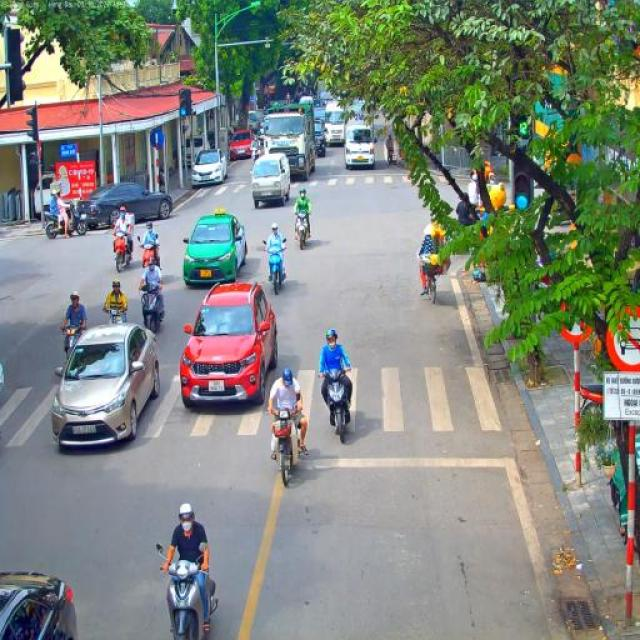car: (51, 322, 160, 452), (180, 279, 280, 409), (0, 571, 80, 640), (182, 208, 248, 287), (73, 182, 174, 229), (250, 152, 291, 208), (191, 148, 229, 186), (344, 125, 376, 170), (228, 130, 252, 160), (314, 119, 326, 158), (314, 100, 328, 120)
motorcycle: (156, 542, 219, 640), (268, 406, 304, 489), (317, 367, 352, 443), (44, 201, 88, 240), (262, 239, 288, 295), (574, 383, 604, 427), (139, 286, 165, 334), (60, 323, 85, 362), (138, 233, 161, 272), (114, 229, 134, 273), (294, 211, 310, 250), (102, 306, 128, 325), (484, 160, 496, 190), (250, 148, 260, 162)
truck: (259, 102, 316, 179), (323, 100, 395, 150), (247, 110, 262, 138), (300, 96, 314, 110), (320, 89, 330, 102)
